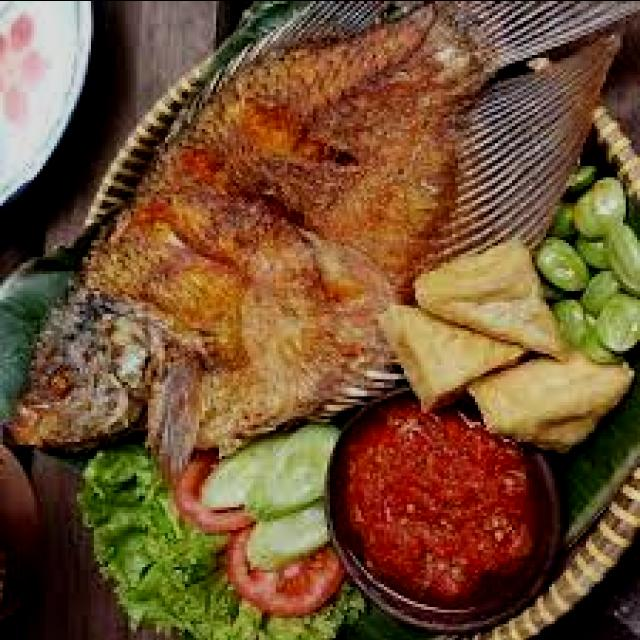ikan goreng: (6, 0, 640, 532)
